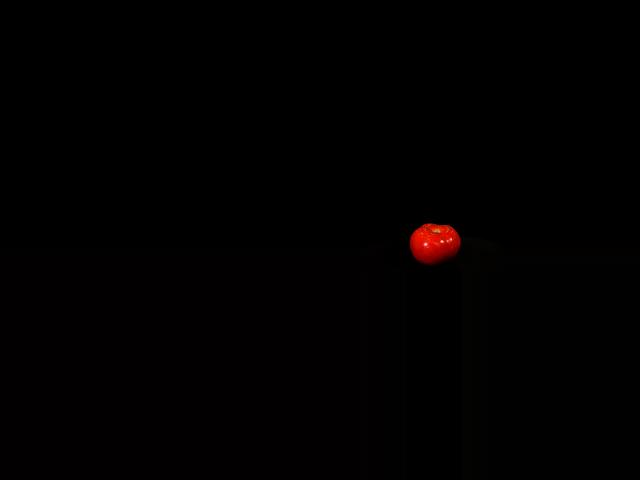tomato: (408, 223, 460, 266)
